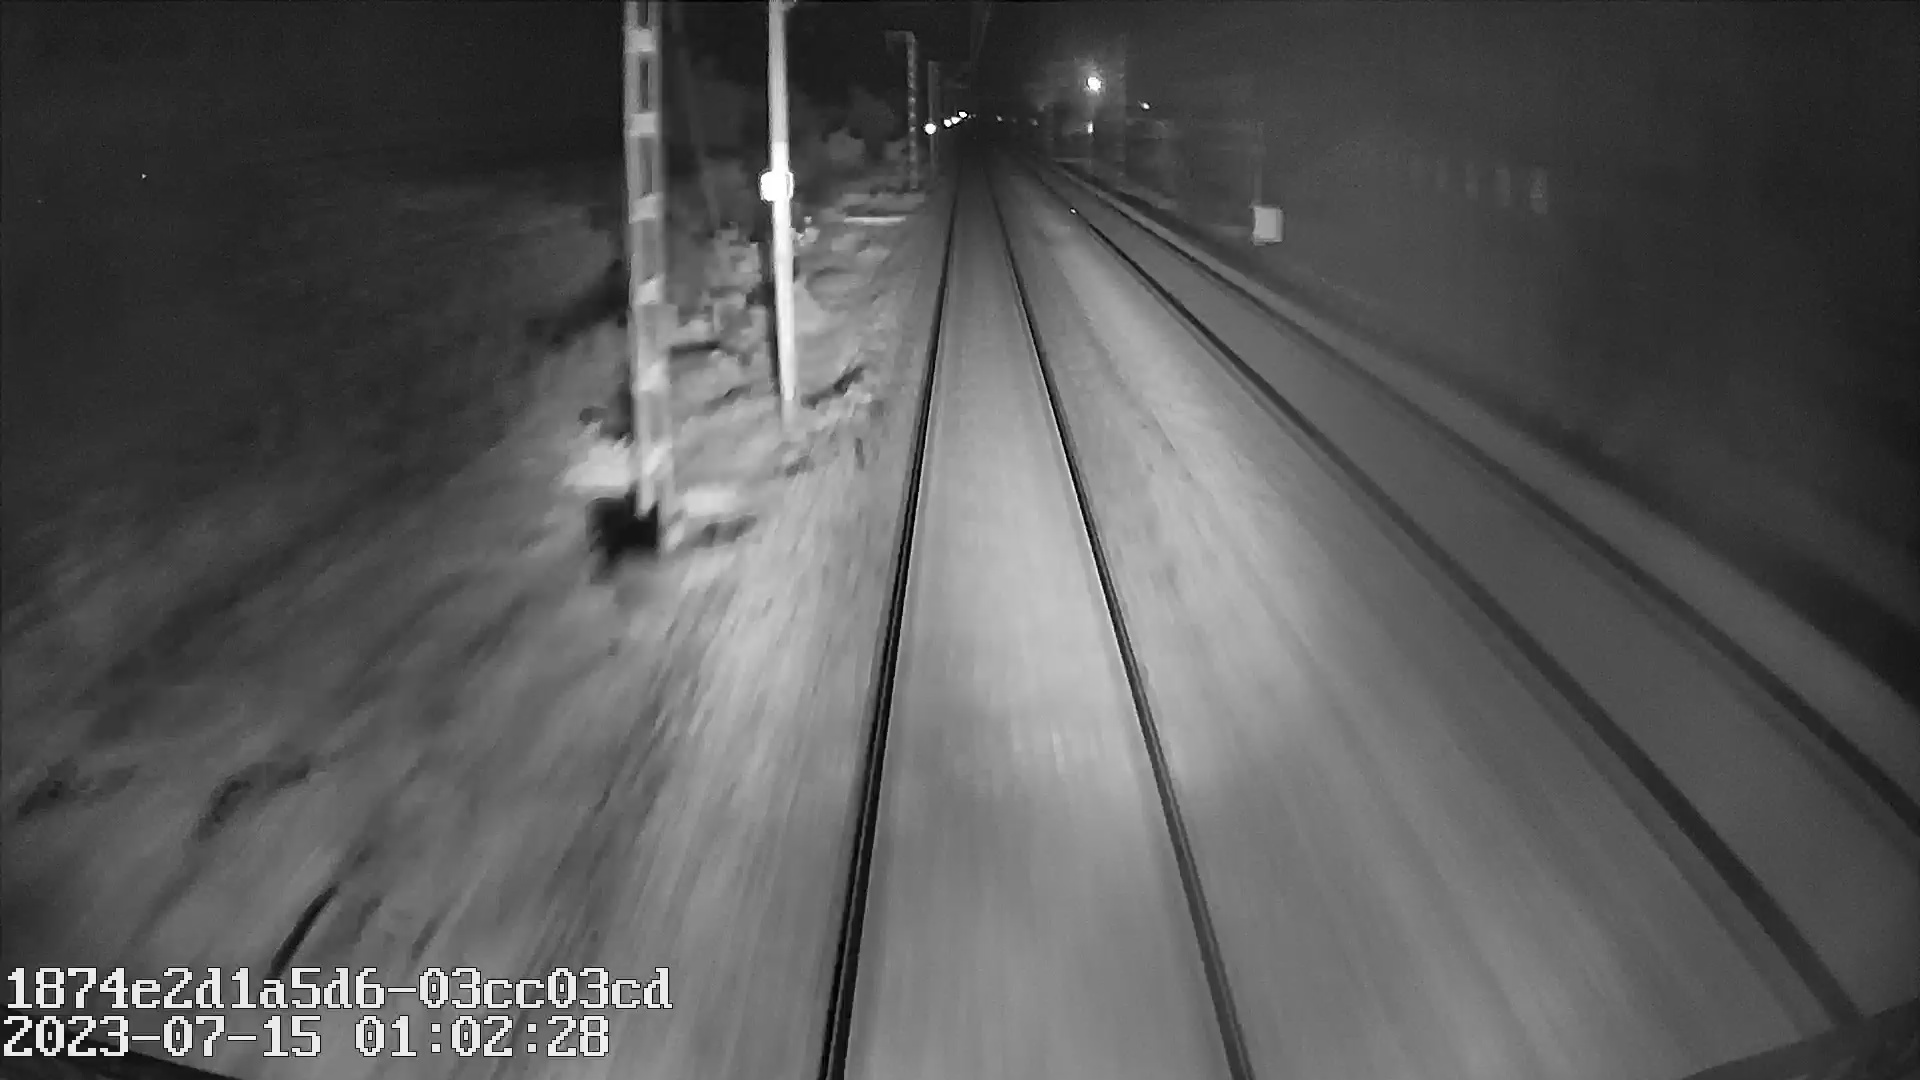track1: (836, 172, 1244, 1059)
track2: (1061, 195, 1907, 1004)
